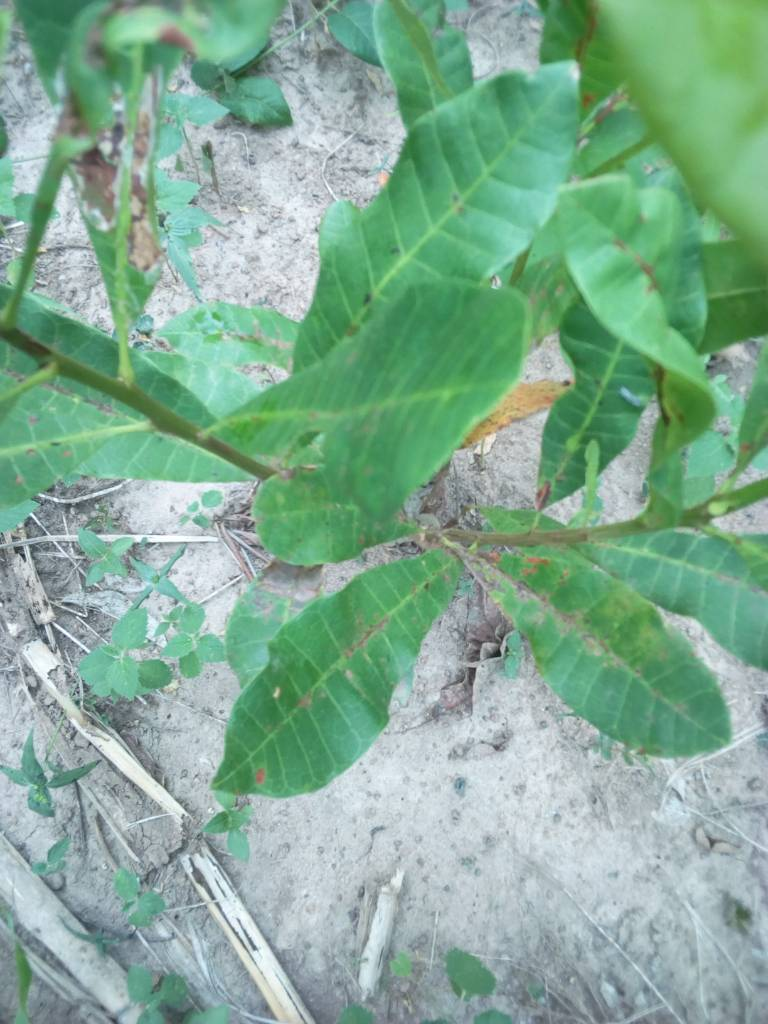Alternariose: (215, 549, 458, 802), (475, 552, 732, 766)
